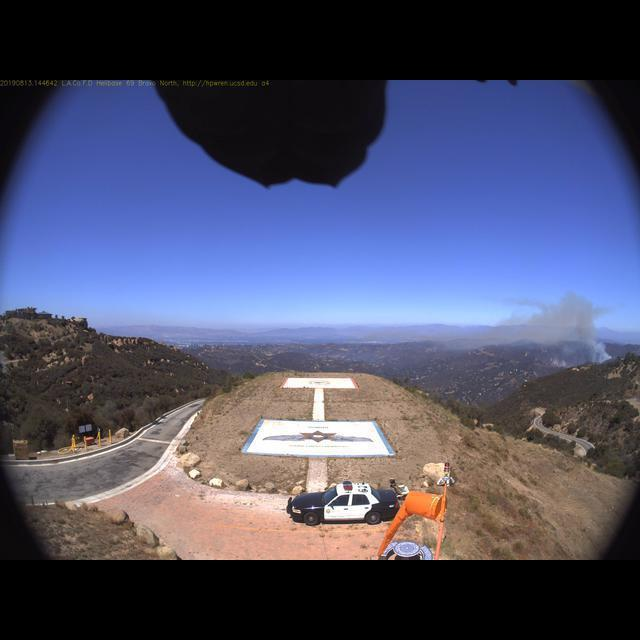Smoke: (461, 290, 614, 367)
